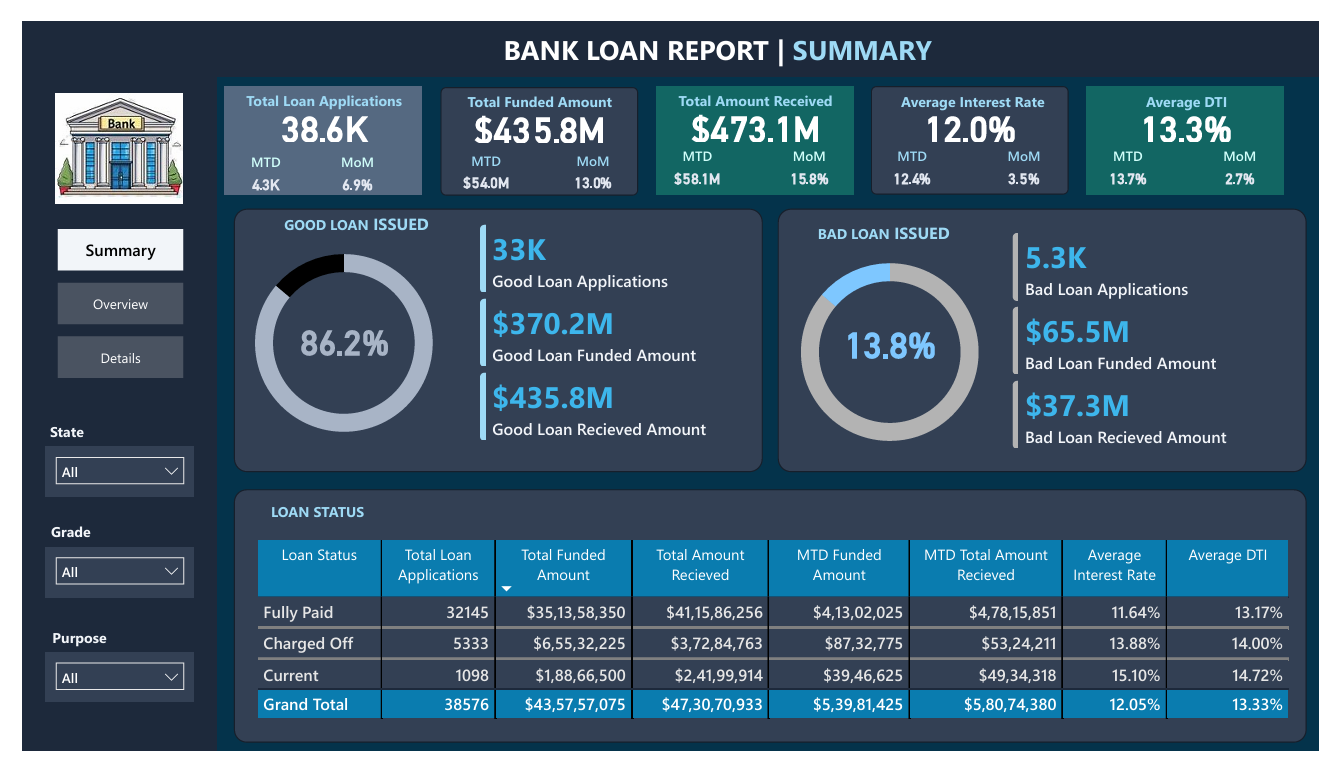

Layout of this report page (visuals, bound fields, positions):
{"tool":"powerbi","page":{"name":"Summary","canvas":[1280,720],"ordinal":0},"visuals":[{"type":"shape","box":[0,0,1280,55],"z":0},{"type":"shape","box":[0,55,192,665],"z":1000},{"type":"shape","box":[200.3,63.9,195.4,107.4],"z":1000,"group":"g1"},{"type":"shape","box":[625.5,63.9,195.4,107.4],"z":1000,"group":"g3"},{"type":"shape","box":[838.2,63.9,195.4,107.4],"z":1000,"group":"g4"},{"type":"shape","box":[1050.8,63.9,195.4,107.4],"z":1000,"group":"g5"},{"type":"shape","box":[412.9,65.1,195.4,107.4],"z":1000,"group":"g2"},{"type":"textbox","box":[434.9,3.9,503.1,47.6],"z":2000},{"type":"group","id":"g1","title":"Group 1","box":[200.3,63.9,195.4,107.4],"z":3000},{"type":"group","id":"g2","title":"Group 1","box":[412.9,65.1,195.4,107.4],"z":4000},{"type":"card","fields":{"Values":["bank_loan_data.Total Loan Applications"]},"box":[226.8,83.2,142.4,41],"z":4000,"group":"g1"},{"type":"card","fields":{"Values":["bank_loan_data.Total Amount Recieved"]},"box":[652,83.2,142.4,41],"z":4000,"group":"g3"},{"type":"card","fields":{"Values":["bank_loan_data.Average Interest Rate"]},"box":[864.7,83.2,142.4,41],"z":4000,"group":"g4"},{"type":"card","fields":{"Values":["bank_loan_data.Average DTI"]},"box":[1077.3,83.2,142.4,41],"z":4000,"group":"g5"},{"type":"card","fields":{"Values":["bank_loan_data.Total Funded Amount"]},"box":[439.4,84.4,142.4,41],"z":4000,"group":"g2"},{"type":"textbox","box":[208.7,63.9,179.8,38.6],"z":5000,"group":"g1"},{"type":"textbox","box":[633.9,63.9,179.8,38.6],"z":5000,"group":"g3"},{"type":"textbox","box":[421.3,65.1,179.8,38.6],"z":5000,"group":"g2"},{"type":"textbox","box":[850.8,65.3,175,45],"z":5000,"group":"g4"},{"type":"textbox","box":[1060.1,65.3,178.9,45],"z":5000,"group":"g5"},{"type":"shape","box":[745.6,184.6,522.4,260.6],"z":5000},{"type":"card","title":"MTD","fields":{"Values":["bank_loan_data.MTD Total Amount Recieved"]},"box":[634.8,124,62.7,47.1],"z":6000,"group":"g3"},{"type":"card","title":"MTD","fields":{"Values":["bank_loan_data.MTD Average Interest Rate"]},"box":[847.5,124,62.7,47.1],"z":6000,"group":"g4"},{"type":"card","title":"MTD","fields":{"Values":["bank_loan_data.MTD Average DTI"]},"box":[1060.1,124,62.7,47.1],"z":6000,"group":"g5"},{"type":"card","title":"MTD","fields":{"Values":["bank_loan_data.MTD Funded Amount"]},"box":[416.9,129.2,82.3,42.5],"z":6000,"group":"g2"},{"type":"card","title":"MTD","fields":{"Values":["bank_loan_data.MTD Loan Applivations"]},"box":[209,129.6,63,41.2],"z":6000,"group":"g1"},{"type":"card","fields":{"Values":["bank_loan_data.Bad Loan %"]},"box":[786.2,297.2,141.5,41.2],"z":6000},{"type":"card","title":"MoM","fields":{"Values":["bank_loan_data.MoM Total Amount Recieved"]},"box":[748.2,124,56.7,47.1],"z":7000,"group":"g3"},{"type":"card","title":"MoM","fields":{"Values":["bank_loan_data.MoM Average Interest Rate"]},"box":[960.9,124,56.7,47.1],"z":7000,"group":"g4"},{"type":"card","title":"MoM","fields":{"Values":["bank_loan_data.MoM Average DTI"]},"box":[1173.5,124,56.7,47.1],"z":7000,"group":"g5"},{"type":"card","title":"MoM","fields":{"Values":["bank_loan_data.MoM Total Funded Amount"]},"box":[521.1,129.2,84.9,42.5],"z":7000,"group":"g2"},{"type":"card","title":"MoM","fields":{"Values":["bank_loan_data.MoM Loan Applications"]},"box":[293.9,129.6,74.6,41.2],"z":7000,"group":"g1"},{"type":"shape","box":[208.7,184.6,522.4,260.6],"z":7000},{"type":"card","fields":{"Values":["bank_loan_data.Good Loan %"]},"box":[247,288.2,141.5,54],"z":8000},{"type":"textbox","box":[240.6,184,178.9,38.6],"z":9000},{"type":"group","id":"g3","title":"Group 1","box":[625.5,63.9,195.4,107.4],"z":10000},{"type":"group","id":"g4","title":"Group 1","box":[838.2,63.9,195.4,107.4],"z":11000},{"type":"group","id":"g5","title":"Group 1","box":[1050.8,63.9,195.4,107.4],"z":12000},{"type":"donutChart","fields":{"Category":["bank_loan_data.Good Vs Bad Loan"],"Y":["bank_loan_data.Total Loan Applications"]},"box":[191.7,203.3,250.9,229],"z":13000},{"type":"cardVisual","fields":{"Data":["bank_loan_data.Good Loan Applications","bank_loan_data.Good Loan Funded Amount","bank_loan_data.Good Loan Recieved Amount"]},"box":[434.9,184,288.2,248.3],"z":14000},{"type":"donutChart","fields":{"Category":["bank_loan_data.Good Vs Bad Loan"],"Y":["bank_loan_data.Total Loan Applications"]},"box":[730.8,212.3,250.9,229],"z":15000},{"type":"textbox","box":[763,193,175,38.6],"z":16000},{"type":"cardVisual","fields":{"Data":["bank_loan_data.Bad Loan Applications","bank_loan_data.Bad Loan Funded Amount","bank_loan_data.Bad Loan Recieved Amount"]},"box":[961.2,191.7,288.2,248.3],"z":17000},{"type":"shape","box":[209.3,461.6,1058.7,249.9],"z":18000},{"type":"tableEx","fields":{"Values":["bank_loan_data.loan_status","bank_loan_data.Total Loan Applications","bank_loan_data.Total Funded Amount","bank_loan_data.Total Amount Recieved","bank_loan_data.MTD Funded Amount","bank_loan_data.MTD Total Amount Recieved","bank_loan_data.Average Interest Rate","bank_loan_data.Average DTI"]},"box":[226.8,507.9,1031.5,199.1],"z":19000},{"type":"textbox","box":[226.8,469.3,129.1,38.6],"z":20000},{"type":"slicer","fields":{"Values":["bank_loan_data.address_state"]},"box":[22.5,420,147.5,50],"z":21000},{"type":"textbox","box":[0,390,87.5,30],"z":22000},{"type":"slicer","fields":{"Values":["bank_loan_data.grade"]},"box":[22.9,518.8,147.2,50.7],"z":23000},{"type":"textbox","box":[0,488.8,96.2,30],"z":24000},{"type":"slicer","fields":{"Values":["bank_loan_data.purpose"]},"box":[22.9,622.5,147.2,49.5],"z":25000},{"type":"textbox","box":[0,593.6,113.4,29],"z":26000},{"type":"image","box":[32.6,63.9,126.7,123.1],"z":26001},{"type":"pageNavigator","box":[33.8,203.9,126.7,150.8],"z":26002}]}

Visuals, with their boxes in screenshot pixels (x1, y1, x2, y2), scaled from the page's 1280x720 canvas onto the 1342x772 screenshot:
shape: <region>0, 0, 1341, 59</region>
shape: <region>0, 59, 201, 771</region>
shape: <region>210, 69, 415, 184</region>
shape: <region>656, 69, 861, 184</region>
shape: <region>879, 69, 1084, 184</region>
shape: <region>1102, 69, 1307, 184</region>
shape: <region>433, 70, 638, 185</region>
textbox: <region>456, 4, 983, 55</region>
"Group 1" group: <region>210, 69, 415, 184</region>
"Group 1" group: <region>433, 70, 638, 185</region>
card - bank_loan_data.Total Loan Applications: <region>238, 89, 387, 133</region>
card - bank_loan_data.Total Amount Recieved: <region>684, 89, 833, 133</region>
card - bank_loan_data.Average Interest Rate: <region>907, 89, 1056, 133</region>
card - bank_loan_data.Average DTI: <region>1129, 89, 1279, 133</region>
card - bank_loan_data.Total Funded Amount: <region>461, 90, 610, 134</region>
textbox: <region>219, 69, 407, 110</region>
textbox: <region>665, 69, 853, 110</region>
textbox: <region>442, 70, 630, 111</region>
textbox: <region>892, 70, 1075, 118</region>
textbox: <region>1111, 70, 1299, 118</region>
shape: <region>782, 198, 1329, 477</region>
"MTD" card: <region>666, 133, 731, 183</region>
"MTD" card: <region>889, 133, 954, 183</region>
"MTD" card: <region>1111, 133, 1177, 183</region>
"MTD" card: <region>437, 139, 523, 184</region>
"MTD" card: <region>219, 139, 285, 183</region>
card - bank_loan_data.Bad Loan %: <region>824, 319, 973, 363</region>
"MoM" card: <region>784, 133, 844, 183</region>
"MoM" card: <region>1007, 133, 1067, 183</region>
"MoM" card: <region>1230, 133, 1290, 183</region>
"MoM" card: <region>546, 139, 635, 184</region>
"MoM" card: <region>308, 139, 386, 183</region>
shape: <region>219, 198, 767, 477</region>
card - bank_loan_data.Good Loan %: <region>259, 309, 407, 367</region>
textbox: <region>252, 197, 440, 239</region>
"Group 1" group: <region>656, 69, 861, 184</region>
"Group 1" group: <region>879, 69, 1084, 184</region>
"Group 1" group: <region>1102, 69, 1307, 184</region>
donutChart - bank_loan_data.Good Vs Bad Loan x bank_loan_data.Total Loan Applications: <region>201, 218, 464, 464</region>
cardVisual - bank_loan_data.Good Loan Applications x bank_loan_data.Good Loan Funded Amount: <region>456, 197, 758, 464</region>
donutChart - bank_loan_data.Good Vs Bad Loan x bank_loan_data.Total Loan Applications: <region>766, 228, 1029, 473</region>
textbox: <region>800, 207, 983, 248</region>
cardVisual - bank_loan_data.Bad Loan Applications x bank_loan_data.Bad Loan Funded Amount: <region>1008, 206, 1310, 472</region>
shape: <region>219, 495, 1329, 763</region>
tableEx - bank_loan_data.loan_status x bank_loan_data.Total Loan Applications: <region>238, 545, 1319, 758</region>
textbox: <region>238, 503, 373, 545</region>
slicer - bank_loan_data.address_state: <region>24, 450, 178, 504</region>
textbox: <region>0, 418, 92, 450</region>
slicer - bank_loan_data.grade: <region>24, 556, 178, 611</region>
textbox: <region>0, 524, 101, 556</region>
slicer - bank_loan_data.purpose: <region>24, 667, 178, 721</region>
textbox: <region>0, 636, 119, 668</region>
image: <region>34, 69, 167, 201</region>
pageNavigator: <region>35, 219, 168, 380</region>
